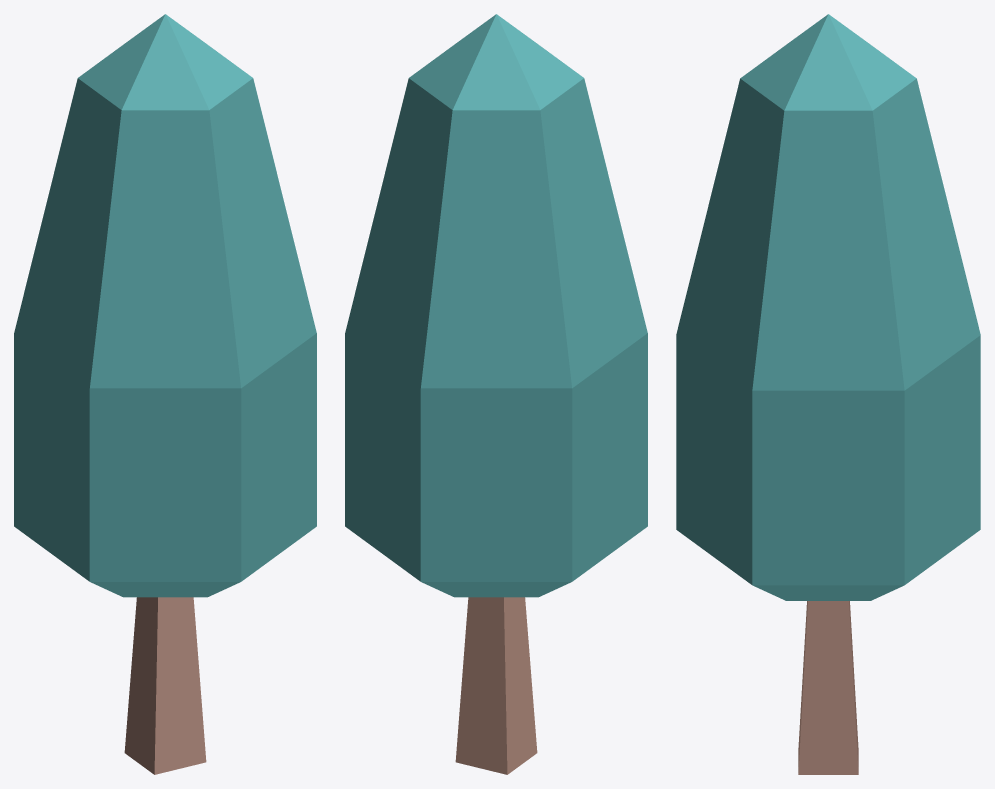
The model's file is tree_small_dark.glb.
3 views of the same model, side by side, from view 1: azimuth 30°, elevation 25°; view 2: azimuth 150°, elevation 25°; view 3: azimuth 270°, elevation 25° (orthographic).
Parts seen in each view (by area): view 1: tree_small_dark; view 2: tree_small_dark; view 3: tree_small_dark.
Boxes of the visible parts, x1,y1,x2,y2 form: tree_small_dark: [14, 14, 316, 774]; tree_small_dark: [345, 14, 647, 774]; tree_small_dark: [676, 14, 980, 774].
Size of the model in its own units: 0.3546 by 1.11 by 0.4095.
